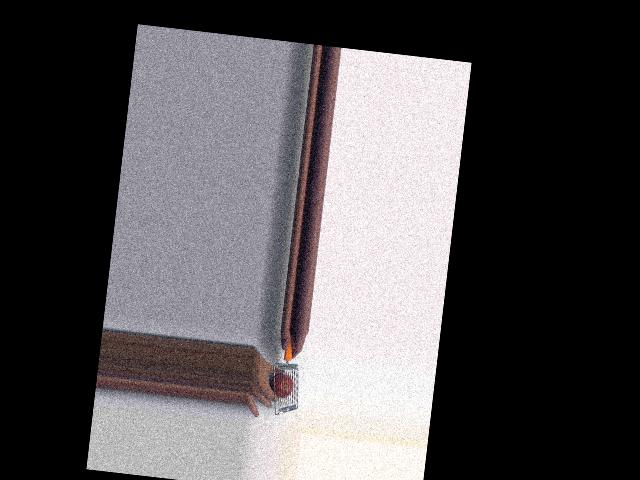tomato: (269, 371, 294, 398)
